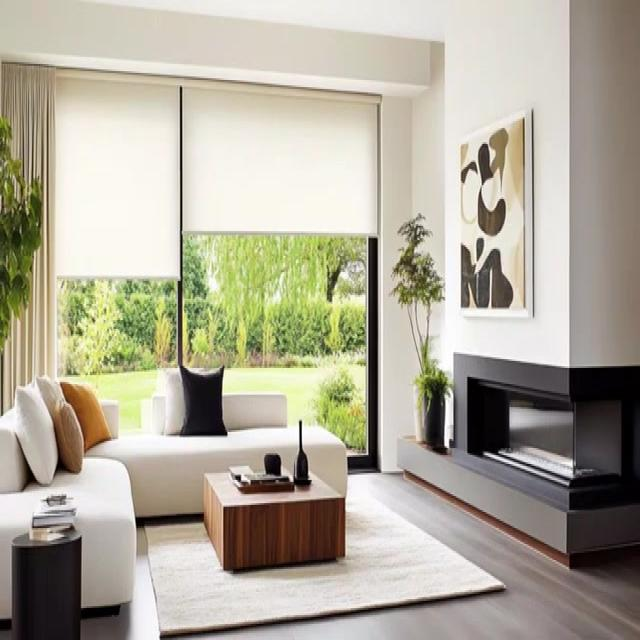obstacle: (0, 382, 348, 620), (202, 462, 345, 571)
